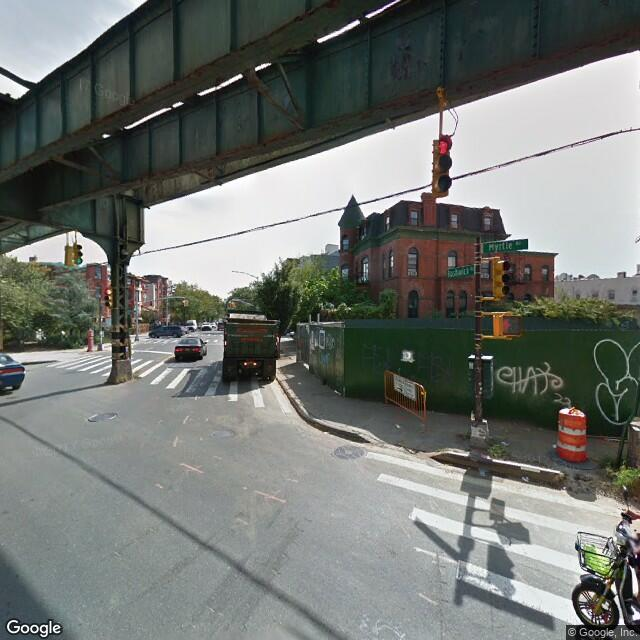litter: (470, 460, 498, 483), (521, 470, 543, 490)
